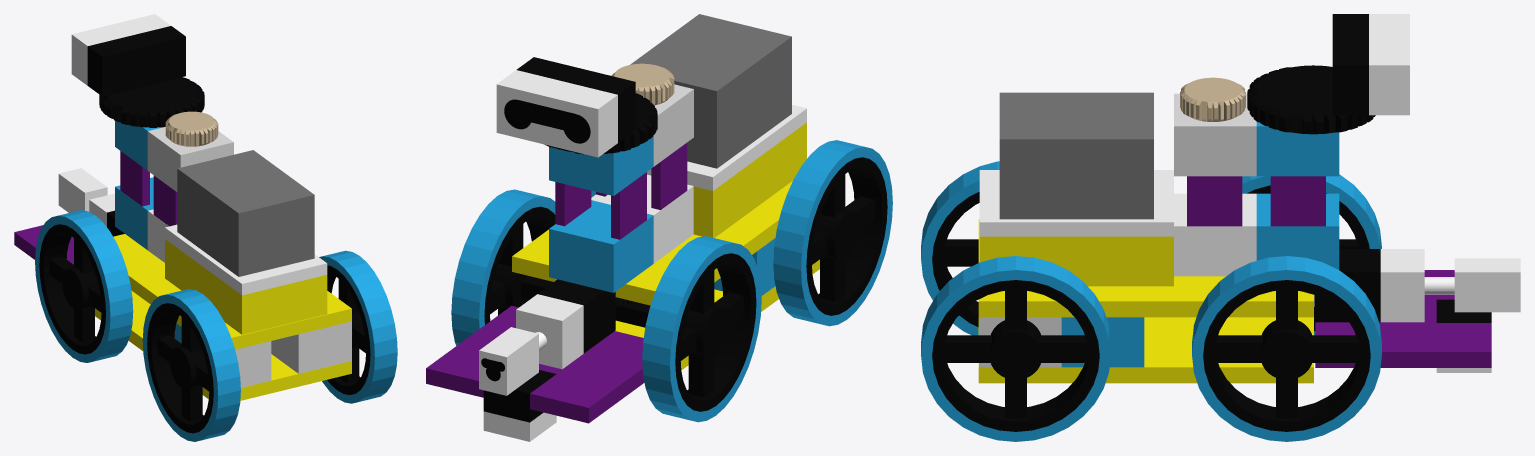
File: rover_scaled.fbx
The picture shows the model from 3 angles, left to right: view 1: azimuth 30°, elevation 25°; view 2: azimuth 150°, elevation 25°; view 3: azimuth 270°, elevation 25°; orthographic projection. The views are drawn at different scales.
Visible parts, largest first — view 1: Powered Up HUB, Left Back Wheel, Left Front Wheel, Lego Spike HUB, Ultrasonic Sensor, Right Back Wheel, Base, Ultrasonic Sensor Motor, US Sensor Primary Gear, Right Driving Motor, Base.002, Steering Motor (+7 smaller); view 2: Left Front Wheel, Left Back Wheel, Powered Up HUB, Ultrasonic Sensor, Base Extension, Steering Motor, Front Righ Wheel, Lego Spike HUB, Ultrasonic Sensor Motor, Force Sensor, Base, Colour Distance Sensor (+9 smaller); view 3: Right Back Wheel, Front Righ Wheel, Powered Up HUB, Lego Spike HUB, Ultrasonic Sensor Motor, Steering Motor, Ultrasonic Sensor, Base.002, Base, Base Extension, US Sensor Primary Gear, Force Sensor (+8 smaller).
Part boxes in pixels (x1,y1,x2,y2): Powered Up HUB: (177, 150, 314, 276); Left Back Wheel: (142, 289, 240, 441); Left Front Wheel: (35, 210, 133, 362); Lego Spike HUB: (165, 224, 327, 334); Ultrasonic Sensor: (71, 14, 185, 96); Right Back Wheel: (319, 250, 397, 403); Base: (113, 234, 351, 349); Ultrasonic Sensor Motor: (115, 120, 233, 191); US Sensor Primary Gear: (99, 77, 204, 127); Right Driving Motor: (271, 321, 351, 373); Base.002: (95, 290, 351, 400); Steering Motor: (115, 177, 168, 262); Left Front Wheel: (642, 236, 761, 422); Left Back Wheel: (773, 140, 892, 326); Powered Up HUB: (630, 14, 791, 168); Ultrasonic Sensor: (496, 57, 635, 157); Base Extension: (426, 306, 644, 423); Steering Motor: (549, 174, 693, 292); Front Righ Wheel: (451, 189, 555, 345); Lego Spike HUB: (647, 105, 806, 237); Ultrasonic Sensor Motor: (549, 84, 693, 195); Force Sensor: (516, 279, 615, 369); Base: (512, 181, 792, 305); Colour Distance Sensor: (479, 327, 538, 395); Right Back Wheel: (921, 256, 1110, 441); Front Righ Wheel: (1192, 256, 1381, 441); Powered Up HUB: (999, 92, 1153, 219); Lego Spike HUB: (979, 170, 1173, 286); Ultrasonic Sensor Motor: (1174, 93, 1339, 176); Steering Motor: (1174, 193, 1339, 276); Ultrasonic Sensor: (1332, 14, 1409, 115); Base.002: (978, 317, 1313, 383); Base: (978, 219, 1313, 317); Base Extension: (1315, 270, 1491, 367); US Sensor Primary Gear: (1247, 65, 1375, 134); Force Sensor: (1314, 249, 1424, 322).
Bounding box in the file's own units: 118 × 174 × 272.
